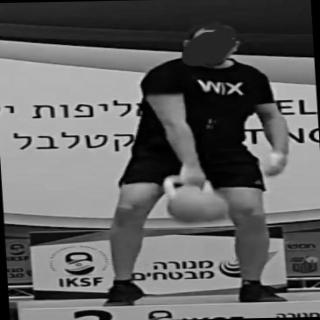kettlebell: (150, 169, 235, 227)
